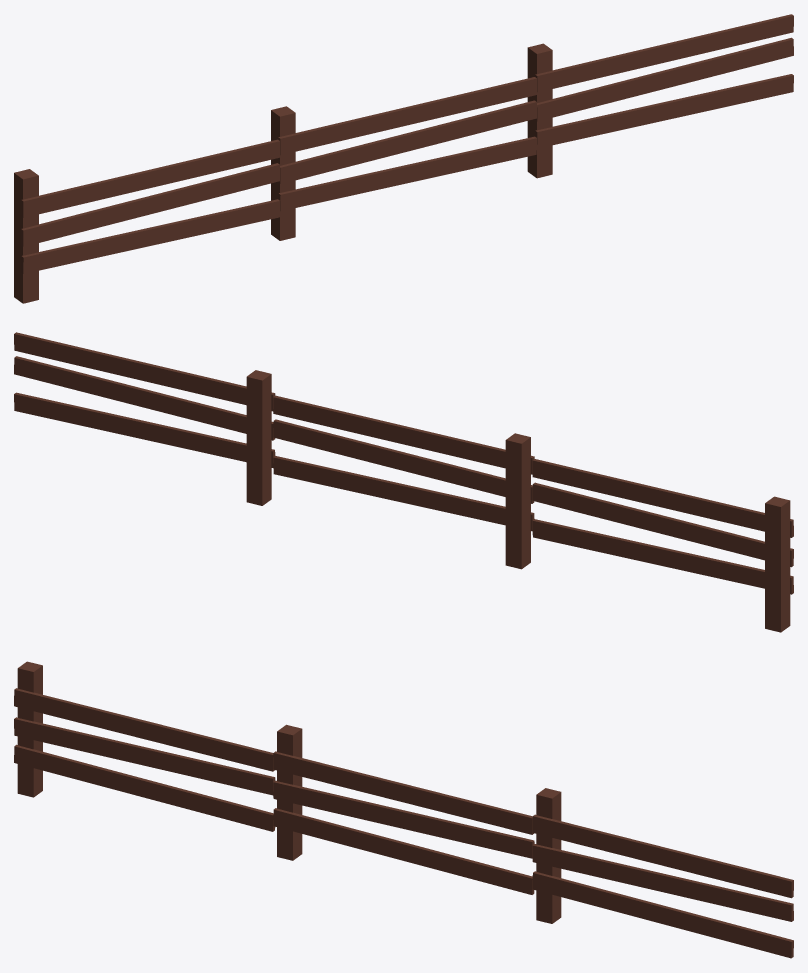
The model's file is Farmi_Aita_ThreeBoard.fbx.
3 renders of one model, top to bottom at view 1: azimuth 30°, elevation 25°; view 2: azimuth 150°, elevation 25°; view 3: azimuth 330°, elevation 25°, orthographic.
Visible parts, largest first — view 1: Fence_ThreeBoard.001; view 2: Fence_ThreeBoard.001; view 3: Fence_ThreeBoard.001.
Boxes of the visible parts, x1=… form: Fence_ThreeBoard.001: x1=14, y1=14, x2=793, y2=303; Fence_ThreeBoard.001: x1=14, y1=332, x2=793, y2=632; Fence_ThreeBoard.001: x1=14, y1=661, x2=793, y2=958.
Bounding box in the file's own units: 648 × 100 × 16.14.
